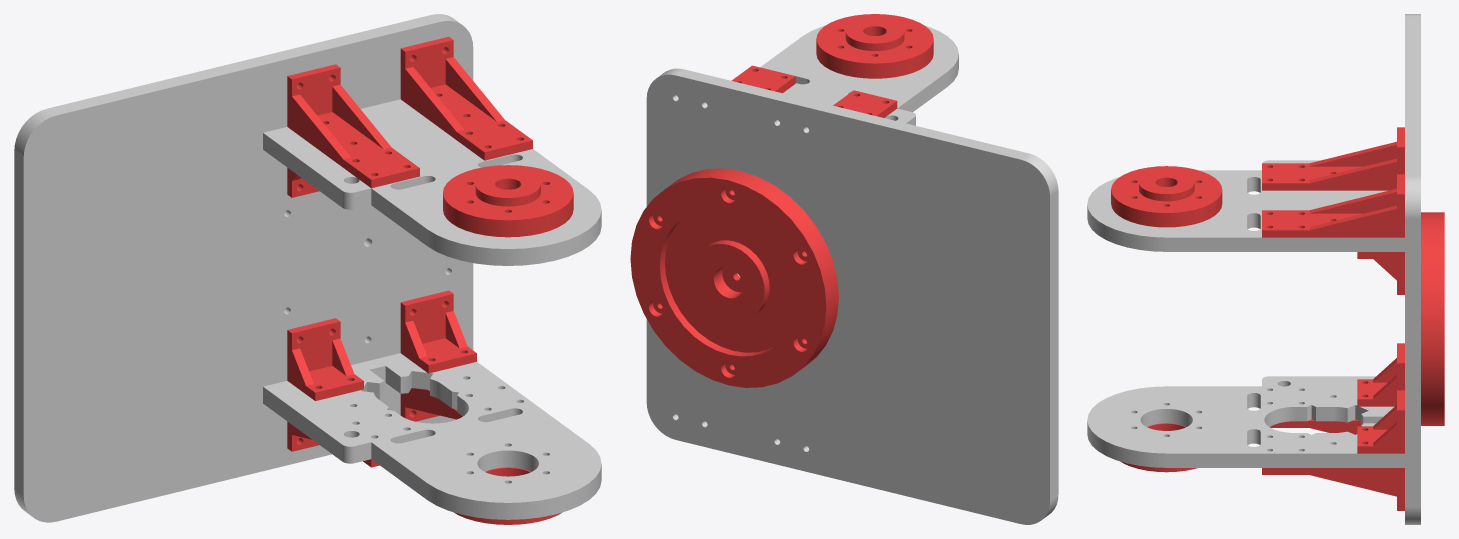
The model's file is khau1.obj.
3 views of the same model, side by side, from view 1: azimuth 30°, elevation 25°; view 2: azimuth 150°, elevation 25°; view 3: azimuth 270°, elevation 25° (orthographic). The views are drawn at different scales.
Parts seen in each view (by area): view 1: dev2, khau1_phai, khau1_trai, dem co dinh v2, ke lon_3-1, ke lon_4-1, ke nho_2-1, ke nho-1, ke lon_2, ke lon_3, dem co dinh v2_1, ke lon-1; view 2: dev2, de duoi, khau1_trai, dem co dinh v2, ke lon_4-1, ke lon_3-1; view 3: khau1_phai, khau1_trai, dev2, dem co dinh v2, de duoi, ke lon_3-1, ke lon_4-1, ke lon-1, ke nho-1, ke nho_2-1, ke lon_2, ke lon_3 (+3 smaller).
Boxes of the visible parts, x1=… form: dev2: x1=14, y1=14, x2=473, y2=522; khau1_phai: x1=263, y1=353, x2=601, y2=519; khau1_trai: x1=263, y1=99, x2=601, y2=265; dem co dinh v2: x1=443, y1=165, x2=573, y2=237; ke lon_3-1: x1=400, y1=36, x2=532, y2=160; ke lon_4-1: x1=287, y1=64, x2=419, y2=188; ke nho_2-1: x1=287, y1=318, x2=363, y2=400; ke nho-1: x1=400, y1=290, x2=476, y2=373; ke lon_2: x1=445, y1=57, x2=504, y2=121; ke lon_3: x1=332, y1=84, x2=391, y2=149; dem co dinh v2_1: x1=454, y1=467, x2=562, y2=524; ke lon-1: x1=400, y1=388, x2=462, y2=421; dev2: x1=646, y1=68, x2=1058, y2=524; de duoi: x1=630, y1=168, x2=838, y2=387; khau1_trai: x1=760, y1=25, x2=958, y2=125; dem co dinh v2: x1=816, y1=14, x2=933, y2=78; ke lon_4-1: x1=833, y1=90, x2=897, y2=117; ke lon_3-1: x1=731, y1=65, x2=795, y2=93; khau1_phai: x1=1087, y1=376, x2=1404, y2=467; khau1_trai: x1=1087, y1=160, x2=1404, y2=251; dev2: x1=1405, y1=14, x2=1420, y2=524; dem co dinh v2: x1=1111, y1=166, x2=1222, y2=227; de duoi: x1=1421, y1=212, x2=1444, y2=425; ke lon_3-1: x1=1262, y1=174, x2=1404, y2=237; ke lon_4-1: x1=1262, y1=127, x2=1404, y2=190; ke lon-1: x1=1262, y1=468, x2=1404, y2=510; ke nho-1: x1=1357, y1=390, x2=1404, y2=453; ke nho_2-1: x1=1357, y1=343, x2=1404, y2=406; ke lon_2: x1=1309, y1=205, x2=1396, y2=230; ke lon_3: x1=1309, y1=158, x2=1396, y2=183.
Size of the model in its own units: 280 by 240 by 225.
